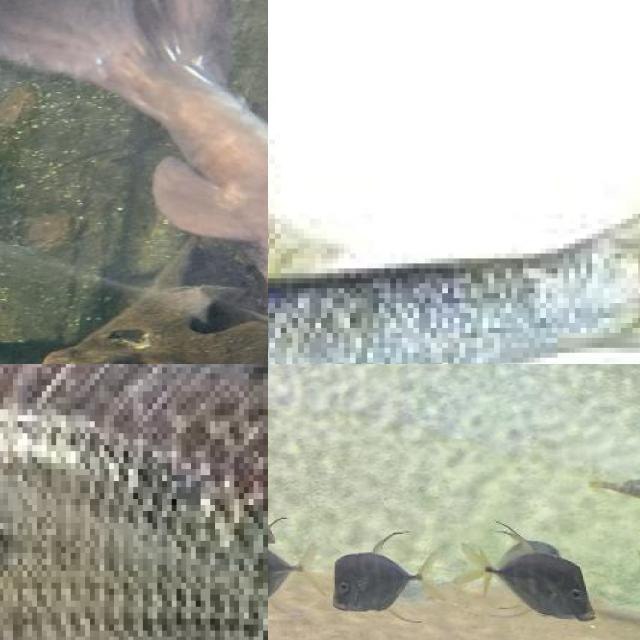fish: (268, 40, 640, 364), (0, 0, 268, 364), (0, 364, 268, 640)
